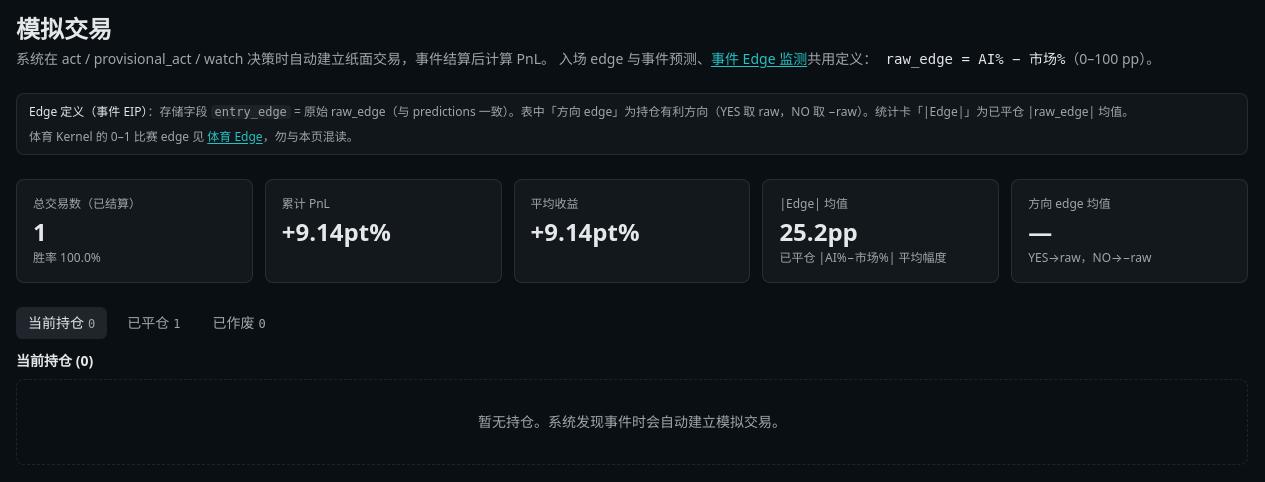
it: TradesPage › shows entry time for closed trades
Click the button "已平仓1".
click(154, 323)  # box [115,307,192,339]
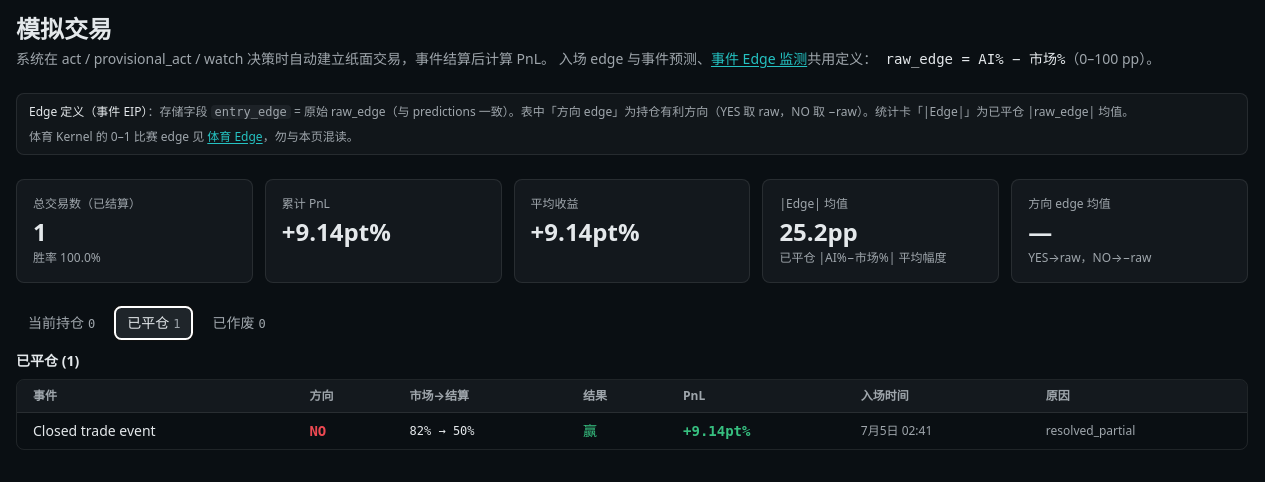
expect the element "已平仓 (1)" is shown: met, box [16,351,1248,450]
expect the column heading "入场时间" is shown: met, box [845,380,1030,412]
